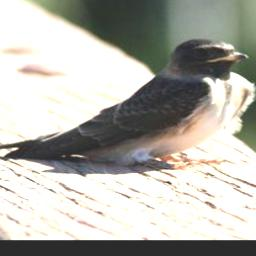Swallow: (0, 37, 256, 171)
